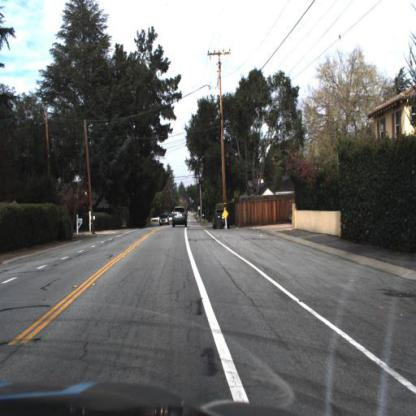car: (173, 205, 190, 229), (214, 209, 228, 230), (158, 213, 171, 229)
